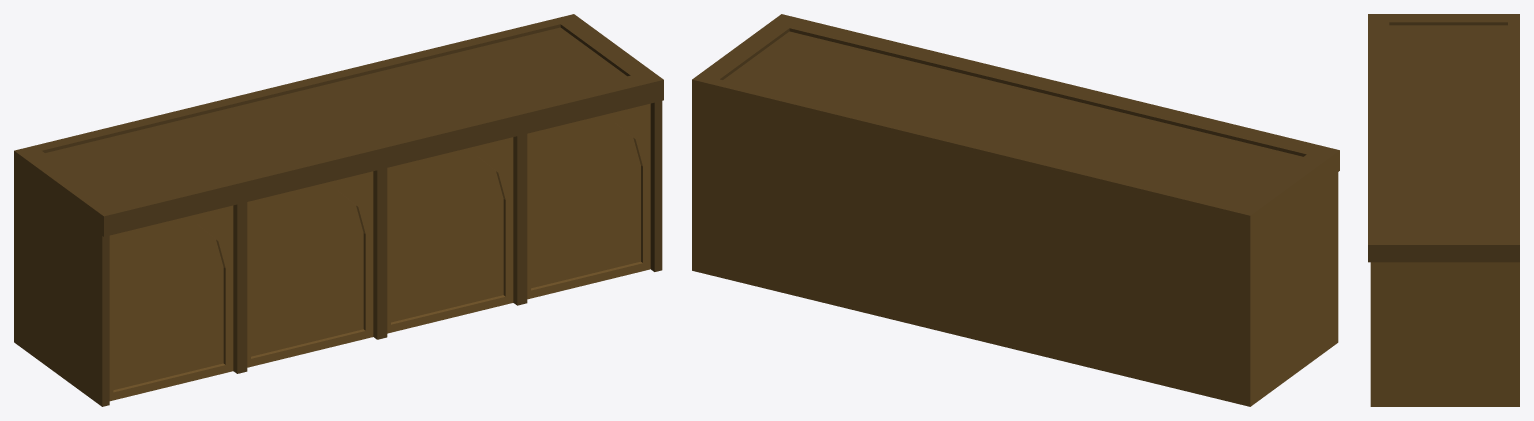
Rendered from Counter.fbx.
The picture shows the model from 3 angles, left to right: view 1: azimuth 30°, elevation 25°; view 2: azimuth 150°, elevation 25°; view 3: azimuth 270°, elevation 25°; orthographic projection. The views are drawn at different scales.
Visible parts, largest first — view 1: Cube.061; view 2: Cube.061; view 3: Cube.061.
Part boxes in pixels (x1=…): Cube.061: x1=14, y1=14, x2=663, y2=406; Cube.061: x1=692, y1=14, x2=1339, y2=406; Cube.061: x1=1368, y1=14, x2=1519, y2=406.
Bounding box in the file's own units: 295 × 96.53 × 81.99.
